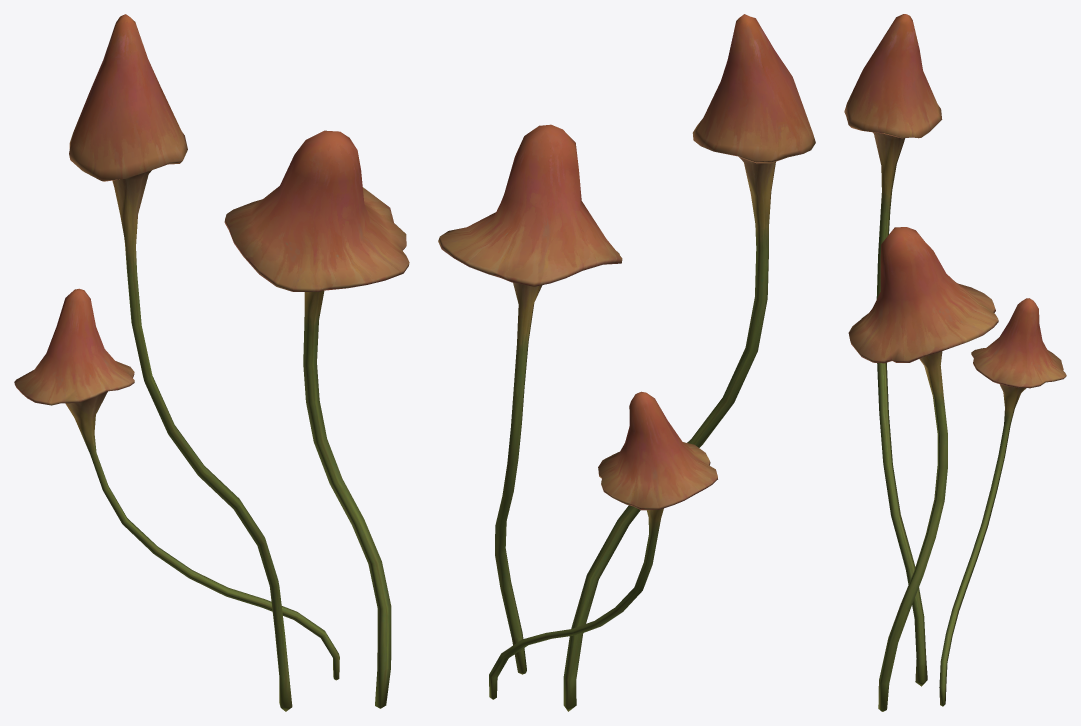
The model's file is Homeworld_Exterior_Xm_Plant_Tree_Mushroom_01_Lod0.fbx.
3 renders of one model, left to right at view 1: azimuth 30°, elevation 25°; view 2: azimuth 150°, elevation 25°; view 3: azimuth 270°, elevation 25°, orthographic. The views are drawn at different scales.
Parts seen in each view (by area): view 1: Homeworld_Exterior_Xm_Plant_Tree_Mushroom_01_Lod0; view 2: Homeworld_Exterior_Xm_Plant_Tree_Mushroom_01_Lod0; view 3: Homeworld_Exterior_Xm_Plant_Tree_Mushroom_01_Lod0.
Part boxes in pixels (bbox=[...]): Homeworld_Exterior_Xm_Plant_Tree_Mushroom_01_Lod0: bbox=[14, 14, 409, 711]; Homeworld_Exterior_Xm_Plant_Tree_Mushroom_01_Lod0: bbox=[438, 14, 815, 711]; Homeworld_Exterior_Xm_Plant_Tree_Mushroom_01_Lod0: bbox=[844, 14, 1066, 711].
Bounding box in the file's own units: 3.51 × 7.33 × 2.44.
Materials: 1 (1 with a texture image).
